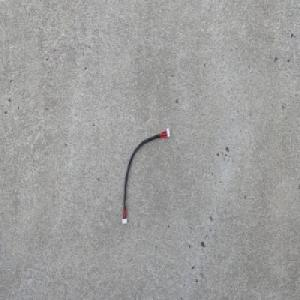Wire: (121, 126, 171, 225)
